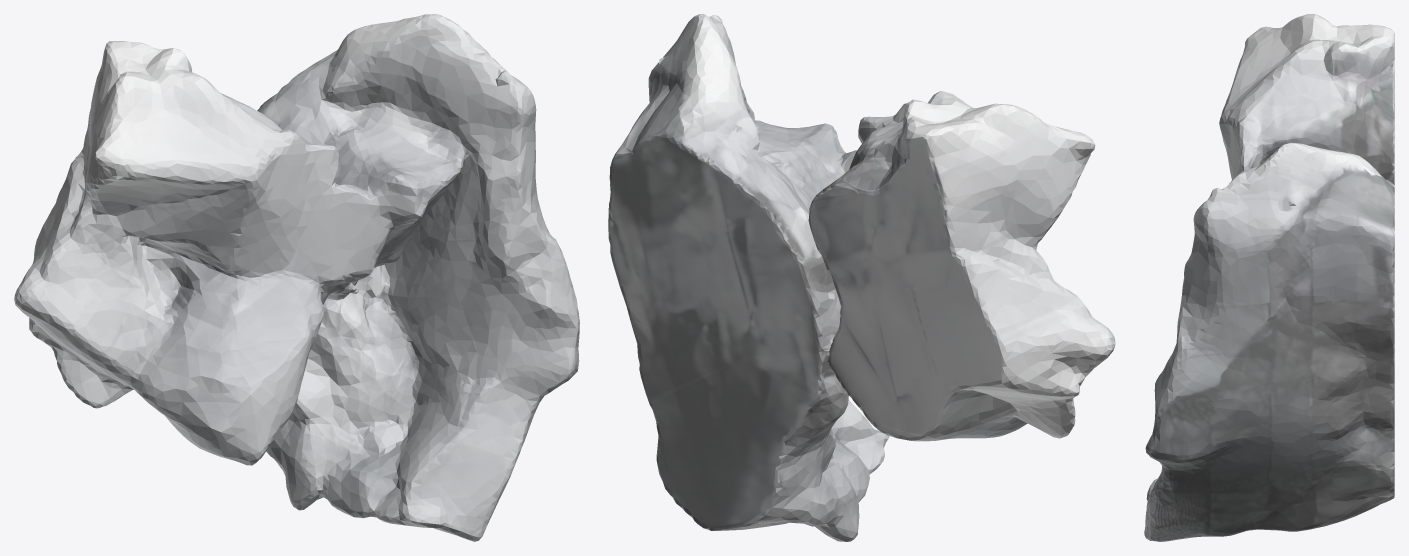
3 views of the same model, side by side, from view 1: azimuth 30°, elevation 25°; view 2: azimuth 150°, elevation 25°; view 3: azimuth 270°, elevation 25° (orthographic). The views are drawn at different scales.
Size of the model in its own units: 0.075 by 0.0695 by 0.0381.
1 material, 1 textured.
